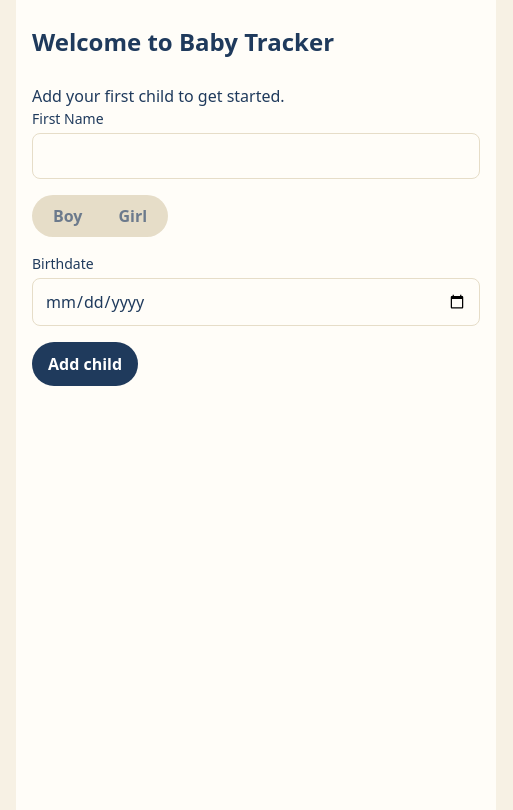
Test: CreateFamilyPage › shows an alert and enables the button again when the creation fails
Type " Nina " into the field labelled "First Name".
click(256, 156); type(" Nina ")  # box [32,133,480,179]
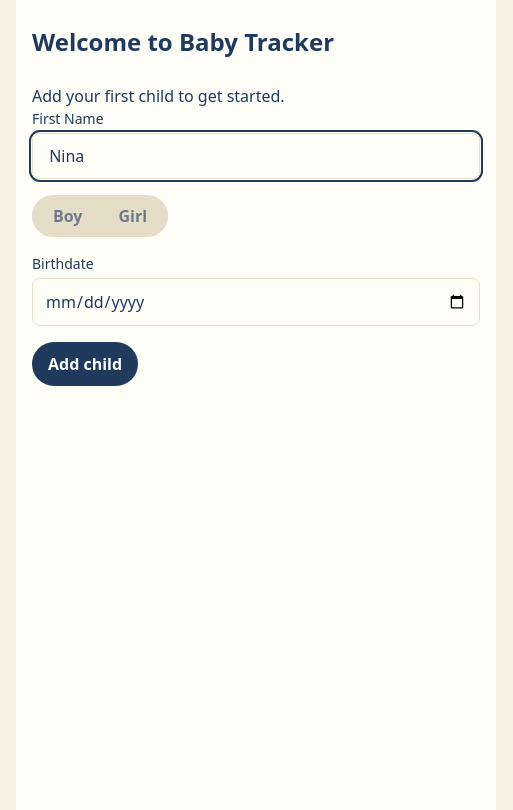
Click the button "Girl".
click(133, 216)  # box [100,198,165,234]
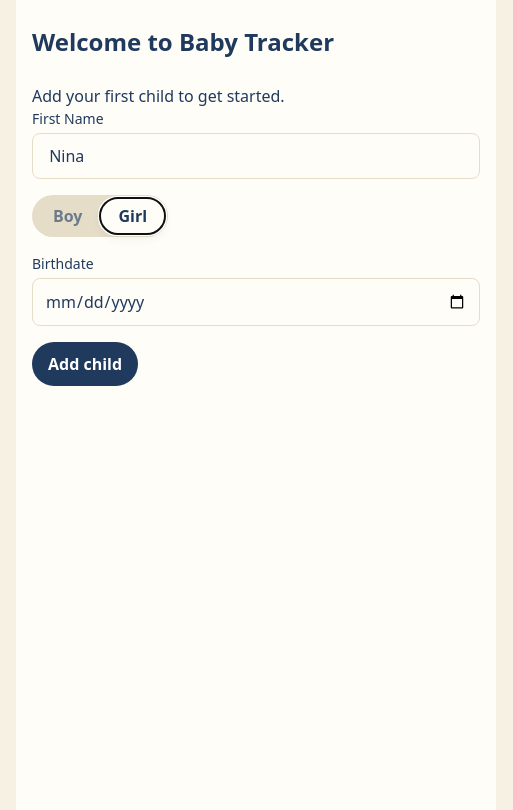
Type "2026-01-15" into the date field labelled "Birthdate".
click(256, 302); type("2026-01-15")  # box [32,278,480,326]
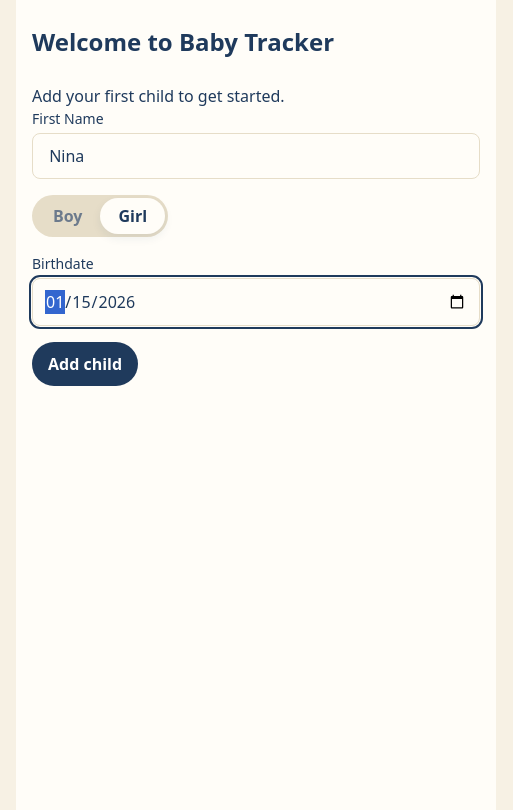
Click the button "Add child".
click(85, 364)  # box [32,342,138,386]
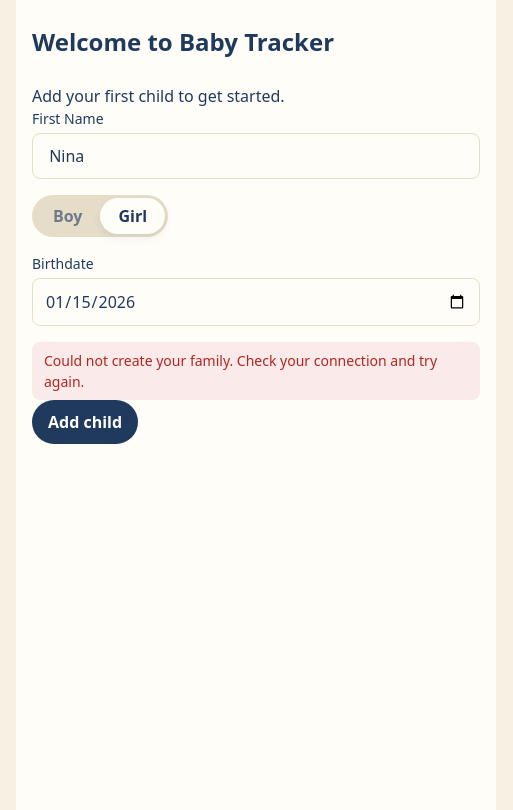
Now the message shows "Could not create your family", box [44,351,437,391]
Click the button "Add child".
click(85, 422)  # box [32,400,138,444]
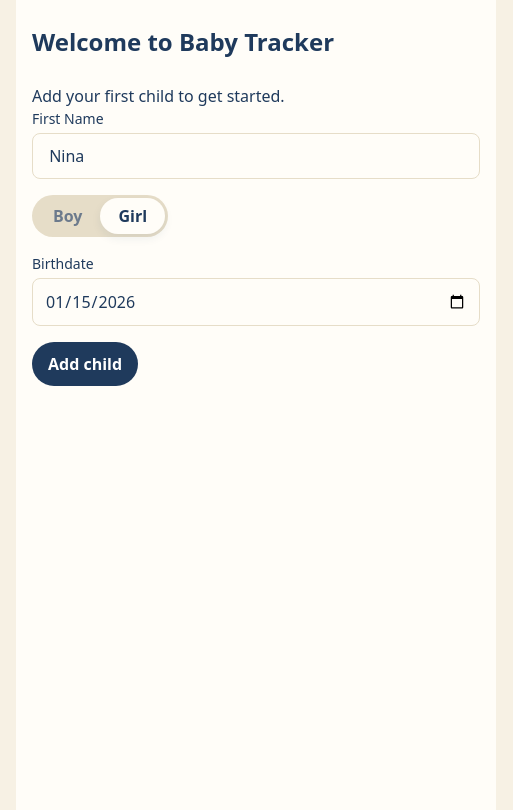
Now the message "Could not create your family. Check your connection and try again." is gone
